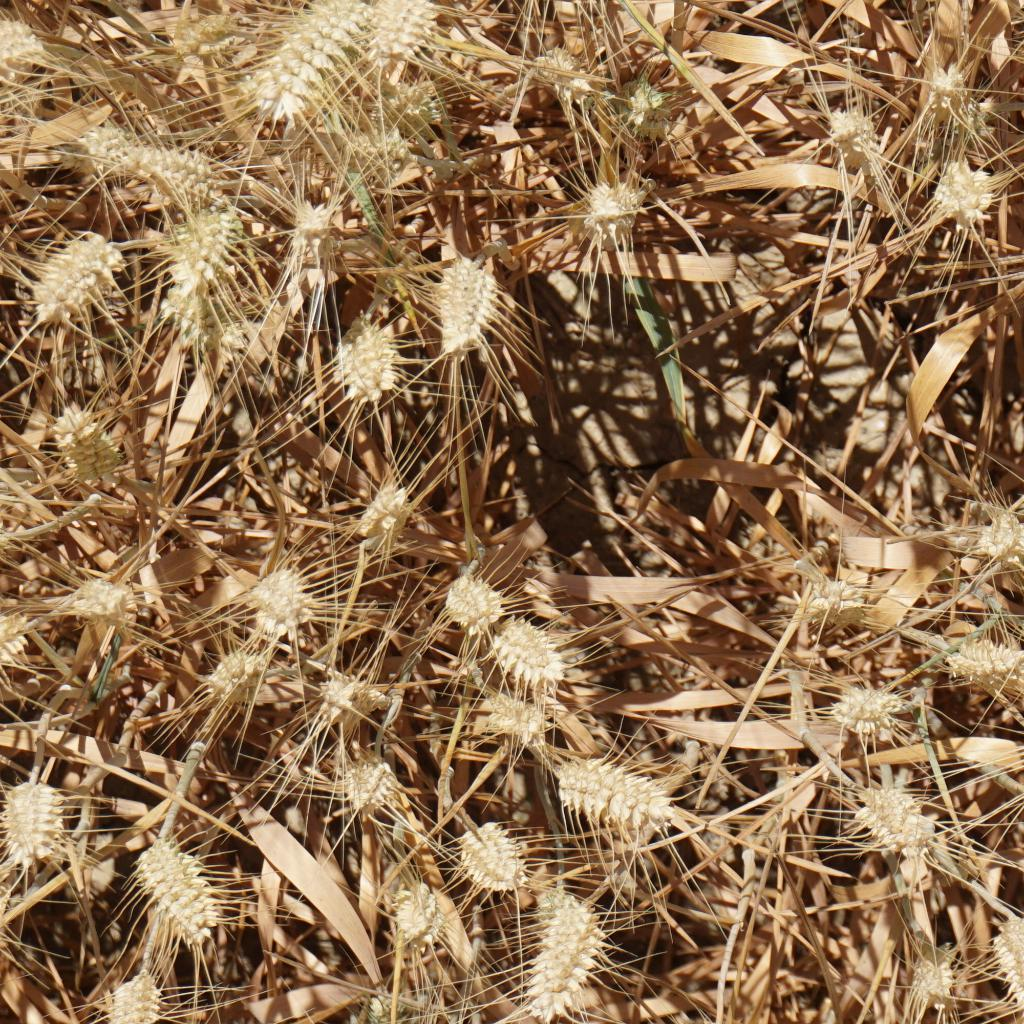0-0: (235, 0, 368, 130), (78, 120, 236, 206), (554, 745, 684, 843), (521, 892, 612, 1024), (132, 833, 228, 949), (422, 245, 514, 365), (20, 230, 127, 329), (164, 205, 243, 322), (853, 773, 948, 868), (51, 401, 128, 500), (485, 606, 572, 693), (454, 817, 537, 900), (815, 84, 888, 173), (164, 302, 252, 372), (172, 5, 259, 75), (925, 156, 1004, 233), (2, 773, 71, 860), (247, 567, 331, 638), (362, 0, 443, 72), (830, 665, 905, 738), (440, 566, 516, 638), (340, 318, 401, 405), (523, 37, 601, 105), (59, 562, 142, 625), (336, 126, 420, 187), (201, 637, 277, 701), (961, 488, 1024, 565), (942, 630, 1023, 689), (352, 471, 417, 542), (338, 752, 409, 817), (389, 873, 447, 952), (986, 903, 1024, 1021), (579, 173, 642, 242), (368, 75, 448, 129), (618, 72, 681, 139), (795, 559, 856, 628), (905, 957, 973, 1016), (105, 968, 176, 1024), (339, 972, 415, 1023), (486, 692, 552, 749), (277, 195, 340, 253), (0, 16, 52, 84), (316, 669, 381, 722), (918, 61, 976, 118), (0, 602, 33, 689)
